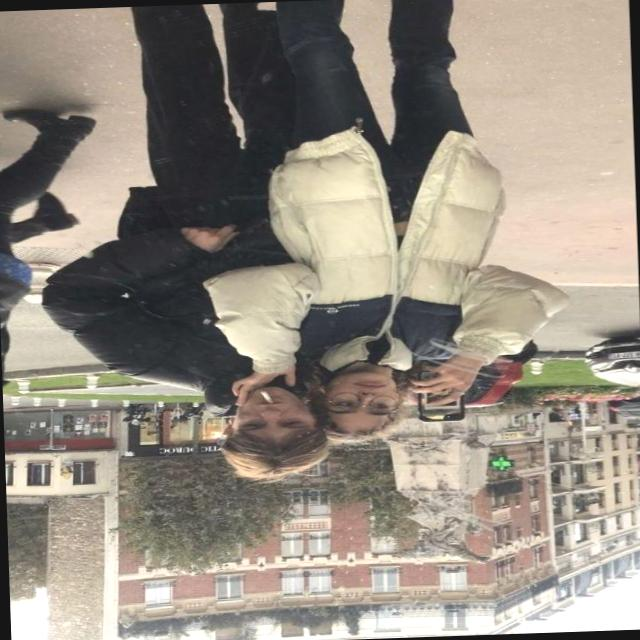cigarette: (252, 382, 283, 408)
